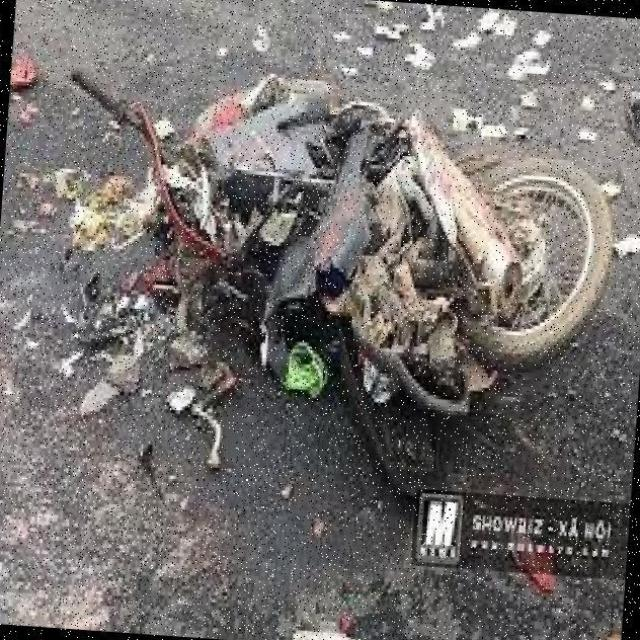accident: (32, 61, 640, 474)
